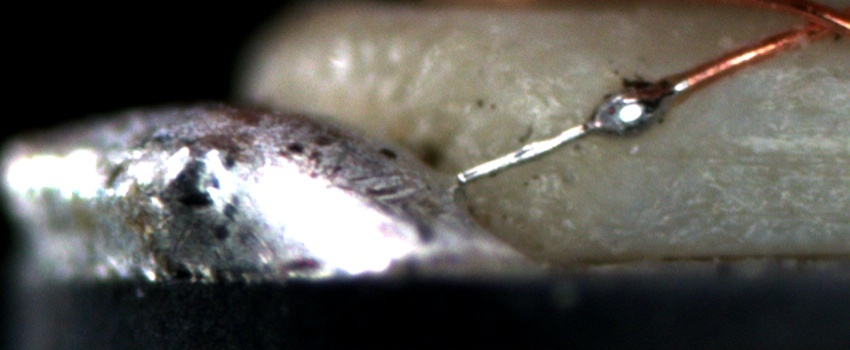DL: (638, 125, 850, 190), (524, 55, 850, 95)
TB: (586, 78, 671, 141)
TS: (454, 72, 688, 184)
TTCW: (456, 59, 719, 182)
